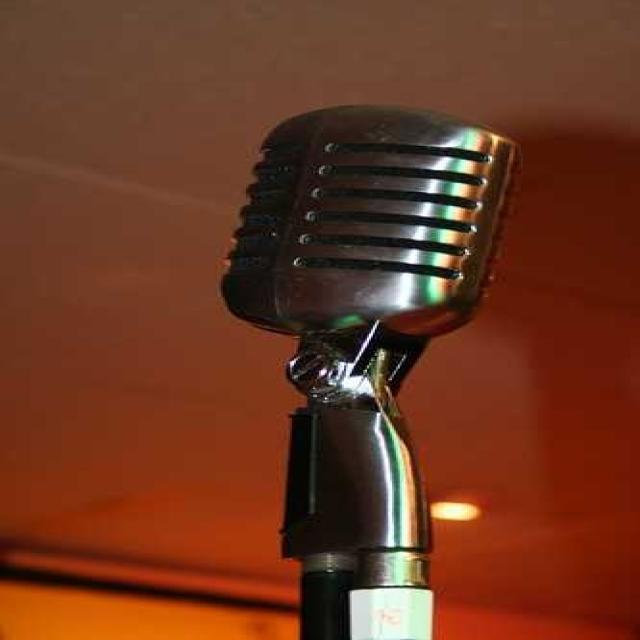microphone: (219, 105, 518, 630)
